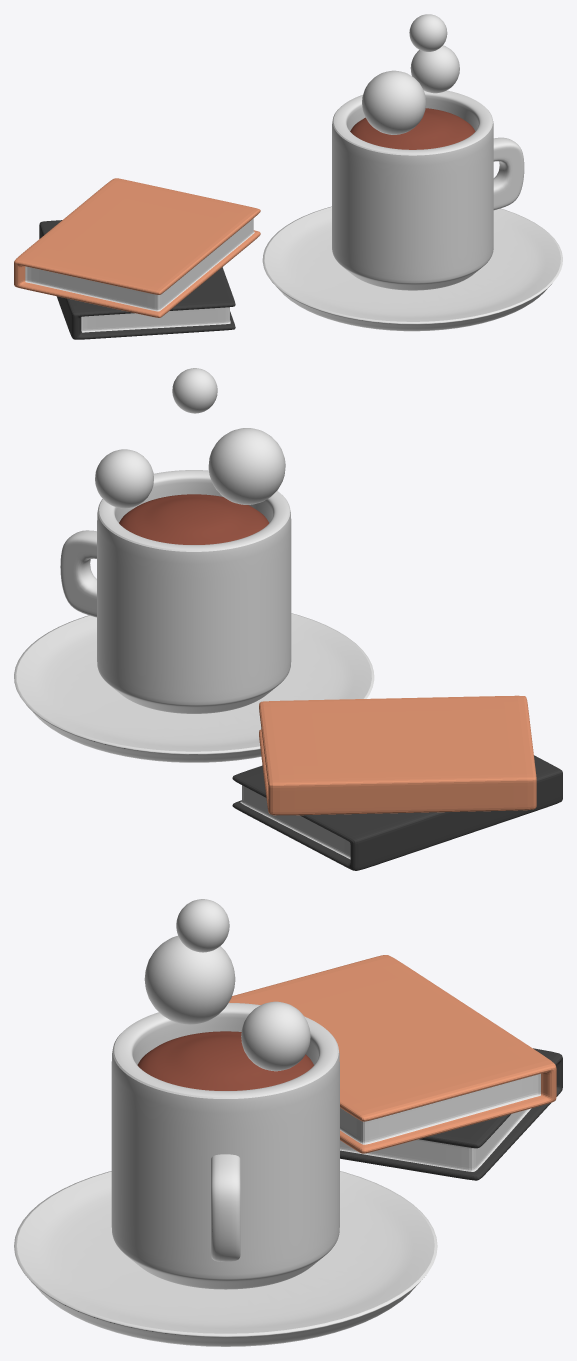
Rendered from Cup&Books.glb.
The picture shows the model from 3 angles, top to bottom: view 1: azimuth 30°, elevation 25°; view 2: azimuth 150°, elevation 25°; view 3: azimuth 270°, elevation 25°; orthographic projection. The views are drawn at different scales.
Visible parts, largest first — view 1: Cup.001, Book.002, Plate.001, Book.001, Bubble.001, Coffee.001, Handle.001, Bubble.002, Bubble.003; view 2: Cup.001, Book.002, Plate.001, Book.001, Coffee.001, Bubble.001, Bubble.002, Handle.001, Bubble.003; view 3: Cup.001, Plate.001, Book.002, Book.001, Coffee.001, Bubble.001, Bubble.002, Handle.001, Bubble.003.
Part boxes in pixels (x1,y1,x2,y2): Cup.001: [332, 90, 493, 290]; Book.002: [14, 178, 260, 317]; Plate.001: [262, 206, 562, 331]; Book.001: [39, 220, 235, 339]; Bubble.001: [362, 70, 426, 134]; Coffee.001: [350, 108, 475, 149]; Handle.001: [493, 137, 524, 210]; Bubble.002: [410, 45, 459, 93]; Bubble.003: [409, 14, 447, 51]; Cup.001: [97, 470, 291, 713]; Book.002: [259, 695, 536, 815]; Plate.001: [14, 613, 374, 762]; Book.001: [232, 755, 562, 870]; Coffee.001: [119, 494, 268, 544]; Bubble.001: [208, 428, 285, 504]; Bubble.002: [95, 449, 153, 508]; Handle.001: [60, 530, 96, 617]; Bubble.003: [172, 368, 217, 413]; Cup.001: [111, 1003, 339, 1289]; Plate.001: [14, 1171, 437, 1346]; Book.002: [229, 955, 556, 1153]; Book.001: [340, 1048, 562, 1180]; Coffee.001: [137, 1031, 313, 1090]; Bubble.001: [144, 936, 235, 1024]; Bubble.002: [241, 1001, 310, 1071]; Handle.001: [211, 1154, 240, 1261]; Bubble.003: [176, 899, 229, 952].
Size of what is drawn, in the model's own units: 6.69 by 3.55 by 4.78.
